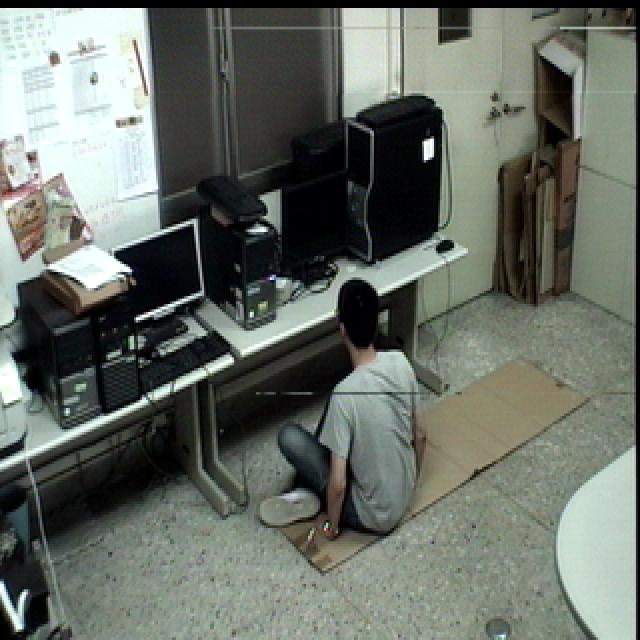sit: (253, 269, 438, 545)
